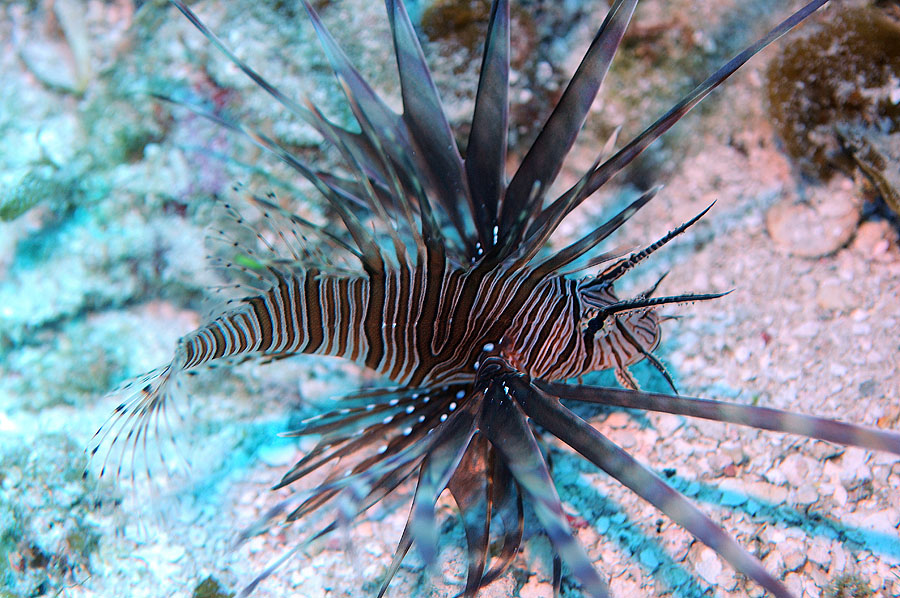Pterois_volitans: (82, 11, 799, 575)
